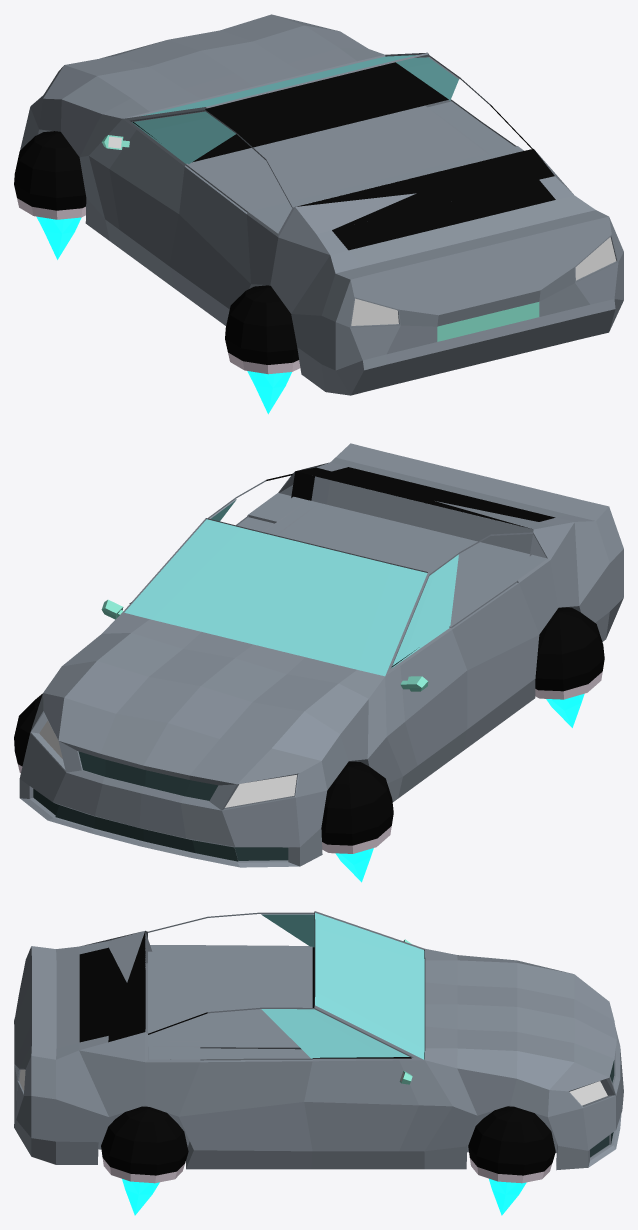
Rendered from FloatingCar2.fbx.
3 renders of one model, top to bottom at view 1: azimuth 30°, elevation 25°; view 2: azimuth 150°, elevation 25°; view 3: azimuth 270°, elevation 25°, orthographic. The views are drawn at different scales.
Visible parts, largest first — view 1: FloatingCar; view 2: FloatingCar; view 3: FloatingCar.
Part boxes in pixels (x1,y1,x2,y2): FloatingCar: (14,14,623,414); FloatingCar: (14,443,623,882); FloatingCar: (14,911,623,1215).
Bounding box in the file's own units: 263 × 153 × 438.
